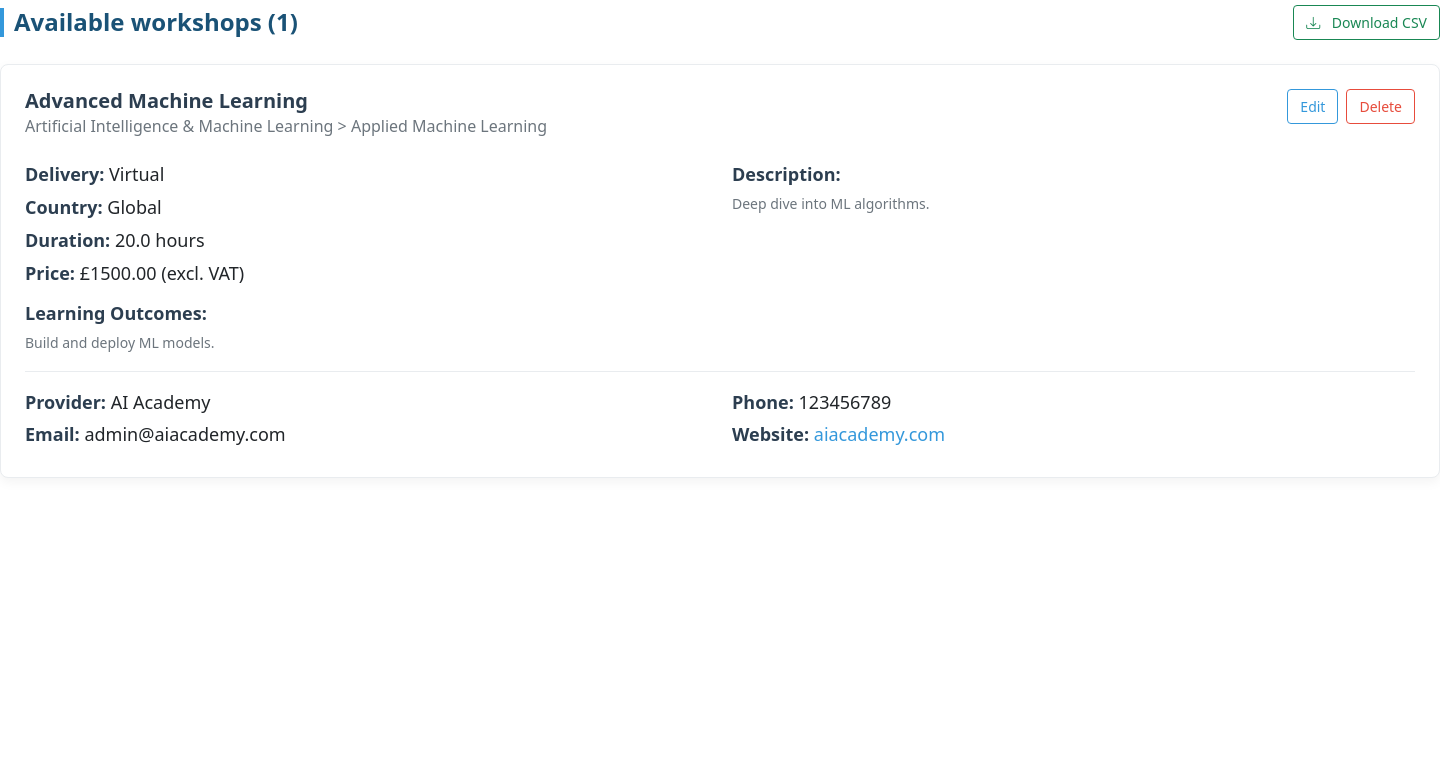
CoursesAdmin Component › cancels edit mode when Cancel button is clicked
The image size is (1440, 767).
Expected: the heading "Available workshops (1)" is shown, [0,8,298,37]
Click the button "Edit". click: (1313, 106)
box: [1287,89,1338,124]
(page scrolled)
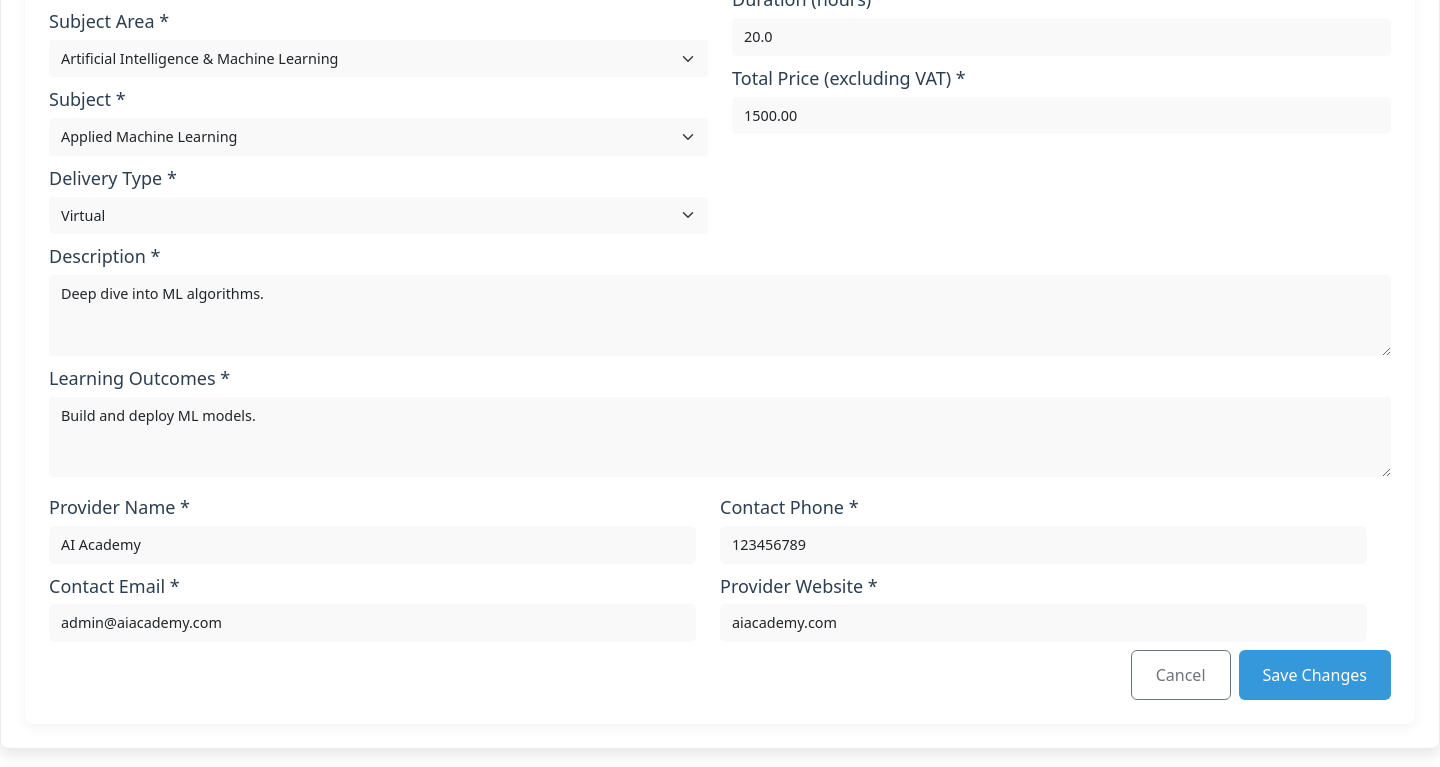
Click the button "Cancel". click: (1181, 675)
box: [1131,650,1230,700]
(page scrolled)
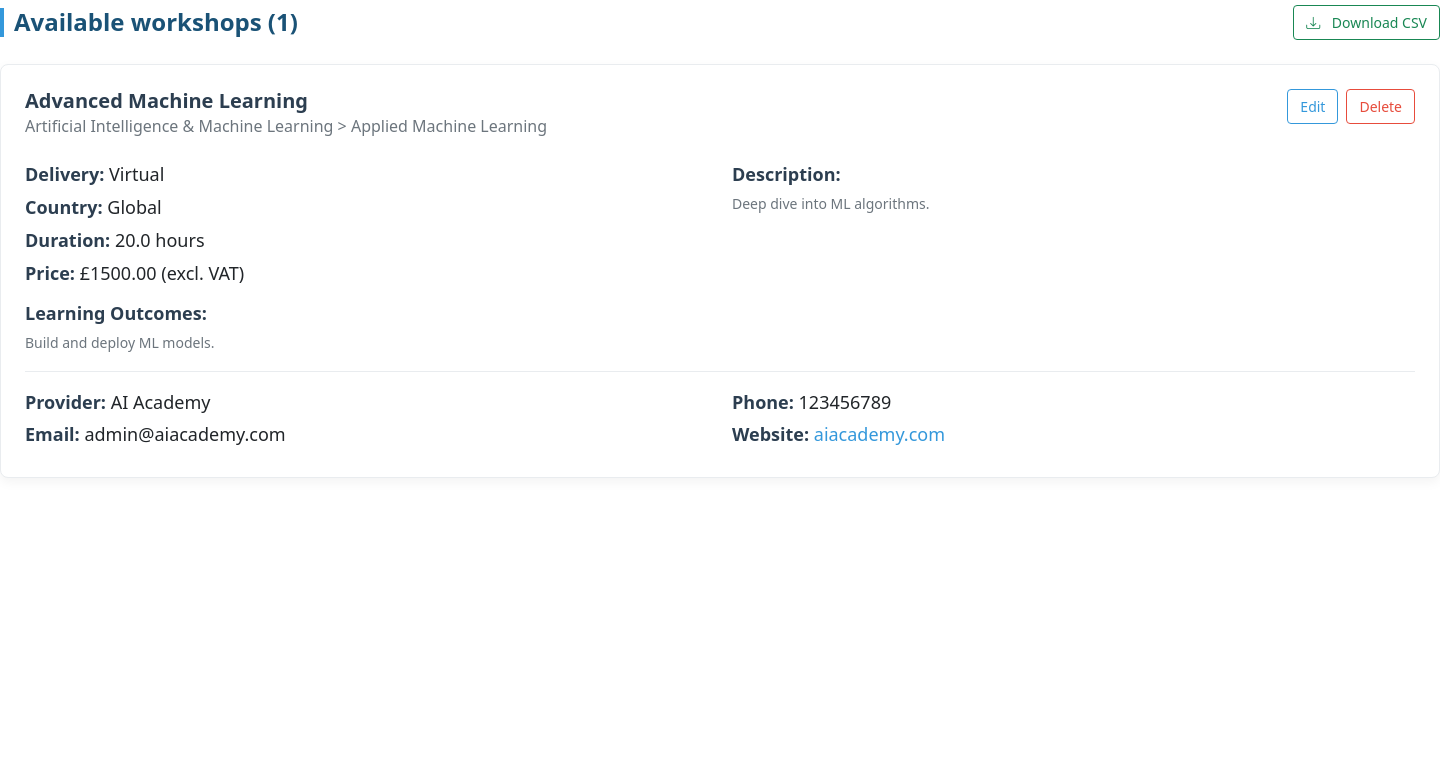
Result: the heading "Advanced Machine Learning" is shown at [25,87,308,114]
